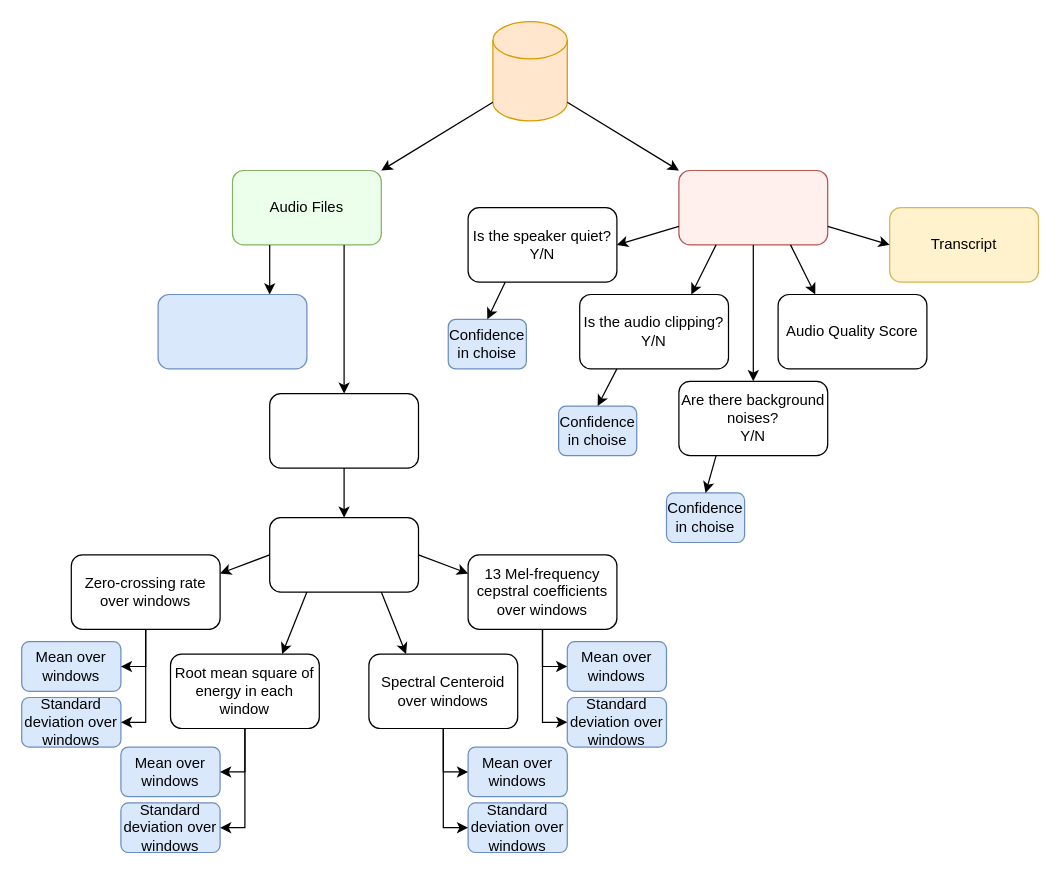
The diagram is 1060 pixels wide and 875 high, and some of its shapes have lost their labels. Each missing label, with the centre of its shape:
"CSV File" goes at point 753,207.
"Data" goes at point 529,70.
"Duration" goes at point 232,331.
"Frequency over time" goes at point 343,430.
"Mel-Cepstrum" goes at point 343,554.
